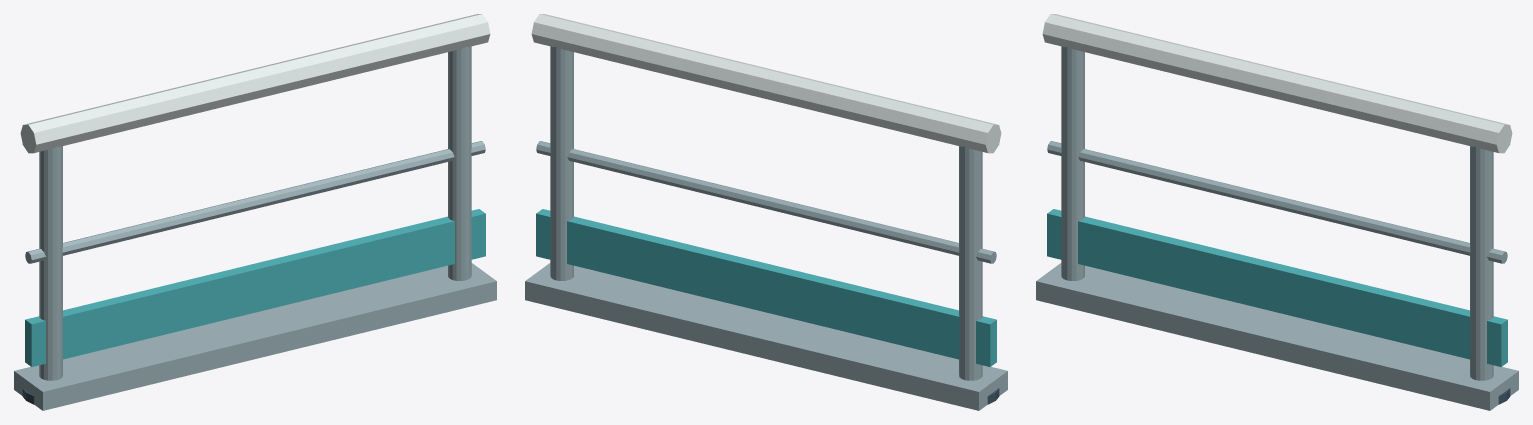
File: orbital-field-station-deck-safety-rail__143.glb
The picture shows the model from 3 angles, left to right: view 1: azimuth 30°, elevation 25°; view 2: azimuth 150°, elevation 25°; view 3: azimuth 330°, elevation 25°; orthographic projection.
Visible parts, largest first — view 1: metal, accent, shell; view 2: metal, accent, shell; view 3: metal, accent, shell.
Boxes of the visible parts, <box> form: metal: <box>14,46,496,410</box>; accent: <box>25,209,485,366</box>; shell: <box>20,14,490,153</box>; metal: <box>525,46,1007,410</box>; accent: <box>536,209,996,366</box>; shell: <box>531,14,1001,153</box>; metal: <box>1036,46,1518,410</box>; accent: <box>1047,209,1507,366</box>; shell: <box>1042,14,1512,153</box>.
Bounding box in the file's own units: 2.02 × 1.16 × 0.22.
